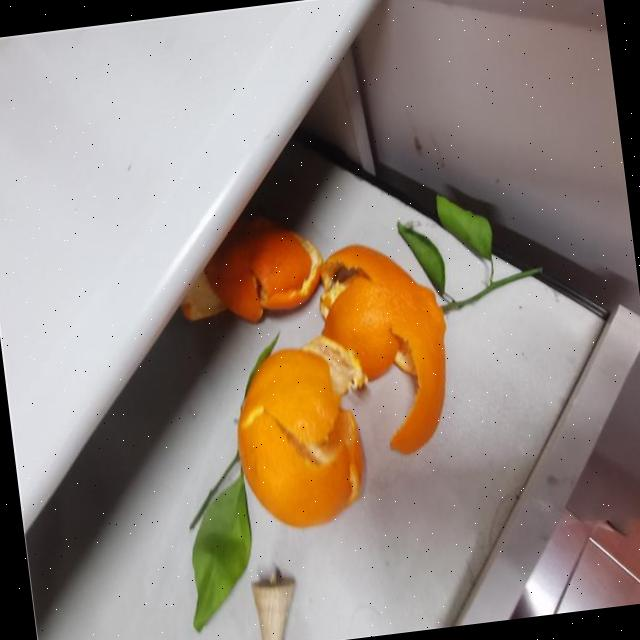orange-peel: (175, 195, 470, 540), (309, 232, 461, 463), (225, 338, 372, 534), (199, 212, 327, 328)
